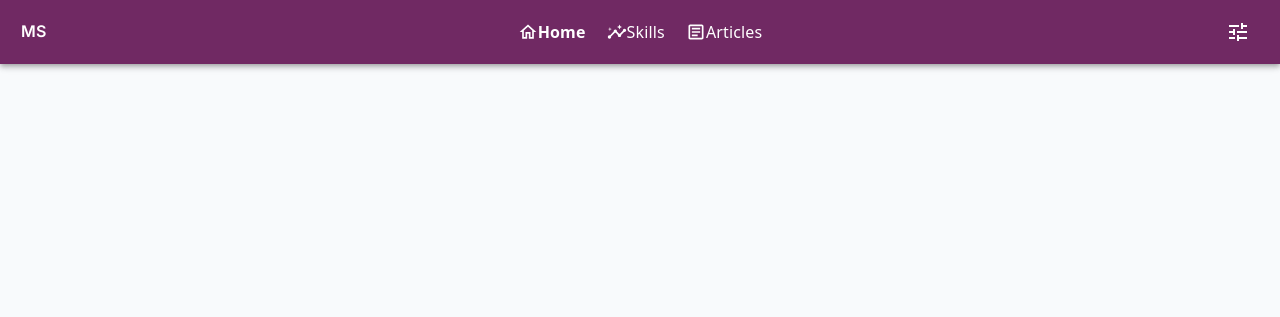
Scenario: NavBar › renders a theme toggle menu item defaulting to purple
Step 1. Click the button named "Open menu" → (1238, 32), box x1=1218 y1=11 x2=1259 y2=53
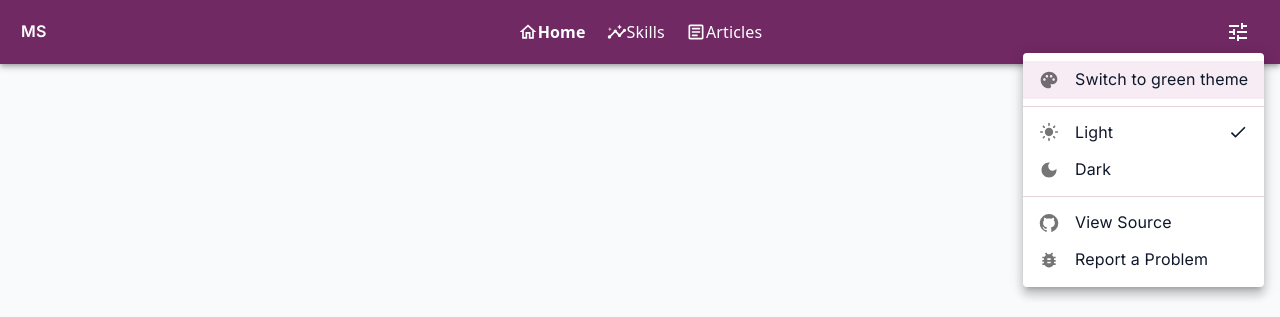
Check: the menu item "Switch to green theme" is shown, box x1=1023 y1=61 x2=1264 y2=99
